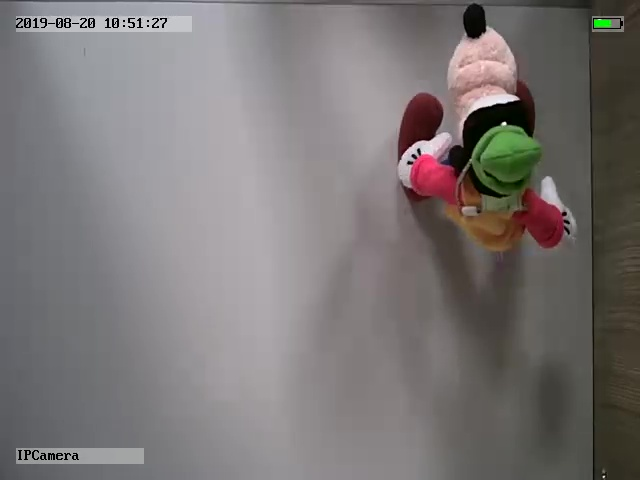goofy: (397, 3, 579, 253)
